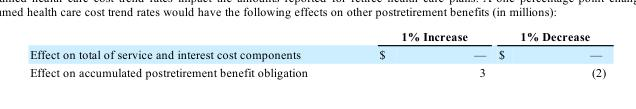table: (29, 28, 605, 78)
table column: (29, 28, 342, 78), (342, 28, 491, 78), (491, 28, 605, 78)
table column header: (29, 28, 605, 44)
table row: (29, 44, 605, 62), (29, 28, 605, 44), (29, 62, 605, 78)
